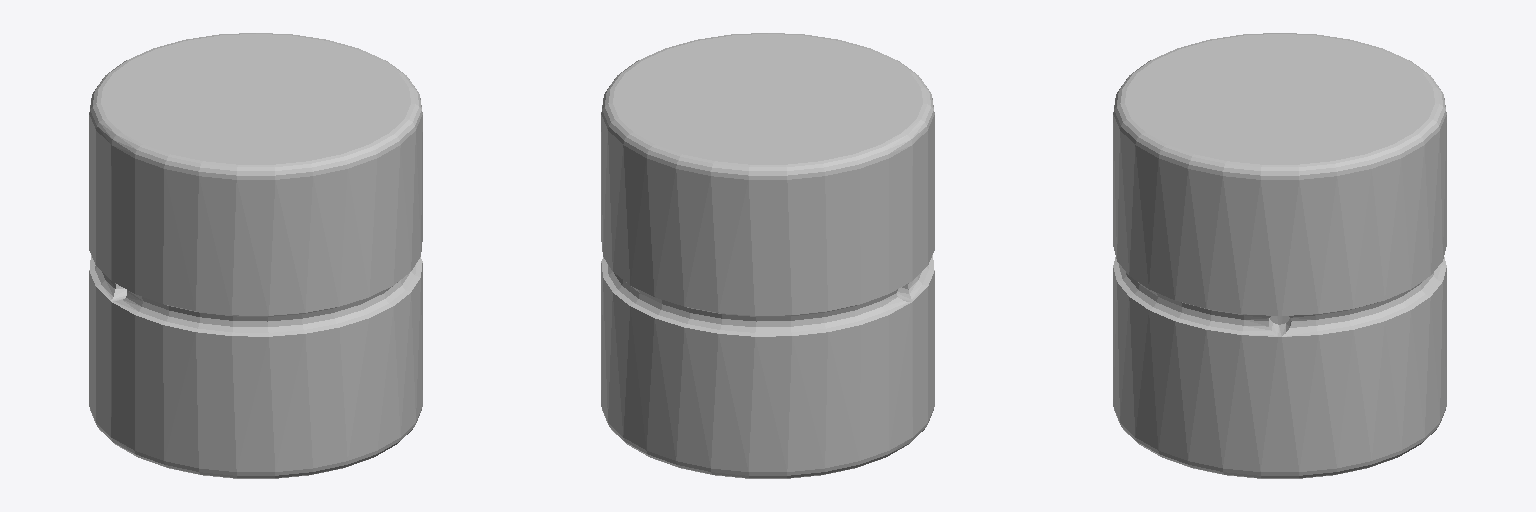
The model's file is Толкатель.obj.
3 views of the same model, side by side, from view 1: azimuth 30°, elevation 25°; view 2: azimuth 150°, elevation 25°; view 3: azimuth 270°, elevation 25° (orthographic).
Parts seen in each view (by area): view 1: Толкатель; view 2: Толкатель; view 3: Толкатель.
Part boxes in pixels (x1,y1,x2,y2): Толкатель: (89, 33, 422, 478); Толкатель: (601, 33, 934, 478); Толкатель: (1113, 33, 1446, 478).
Bounding box in the file's own units: 29 × 30 × 29.